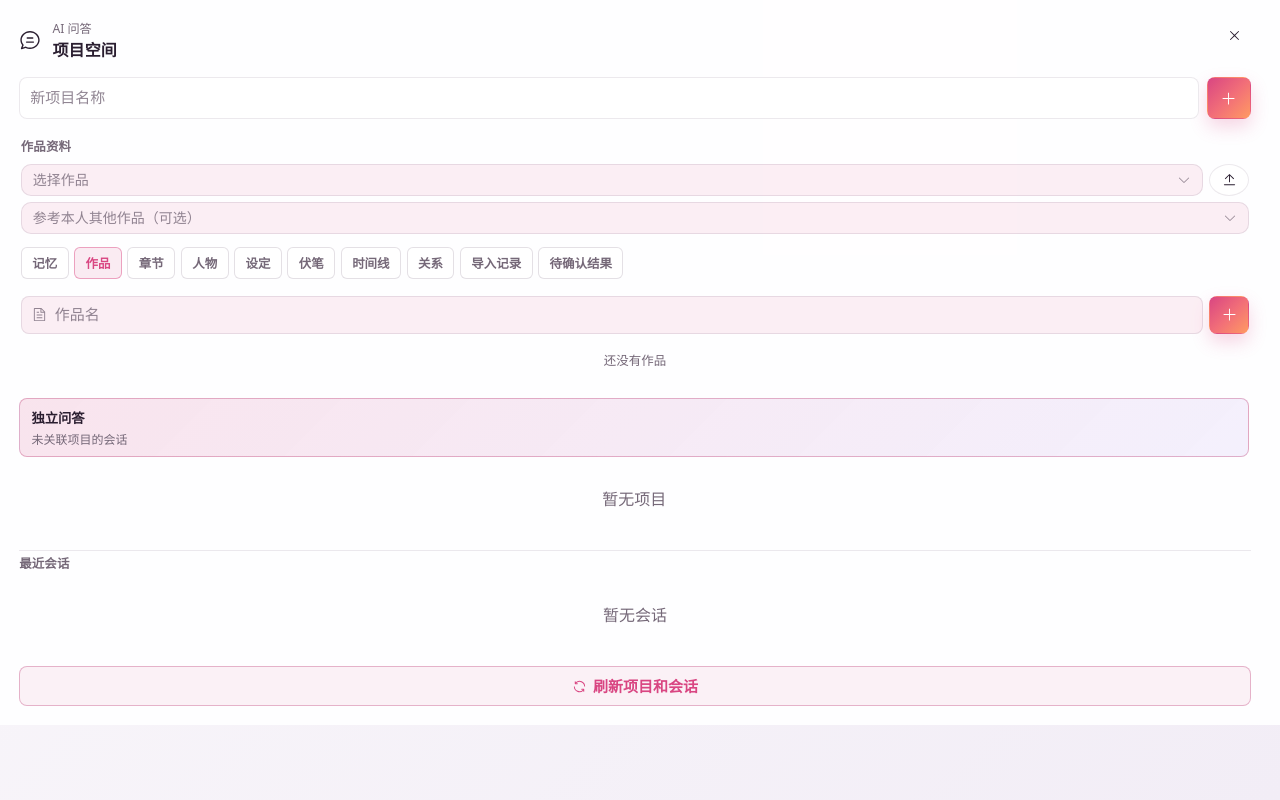
KnowledgeProjectSpace › keeps a newly created project if the initial project list resolves later
The image size is (1280, 800).
Type "late project" into the field with placeholder "新项目名称" at {"x": 609, "y": 98}, box [30,83,1188,113]
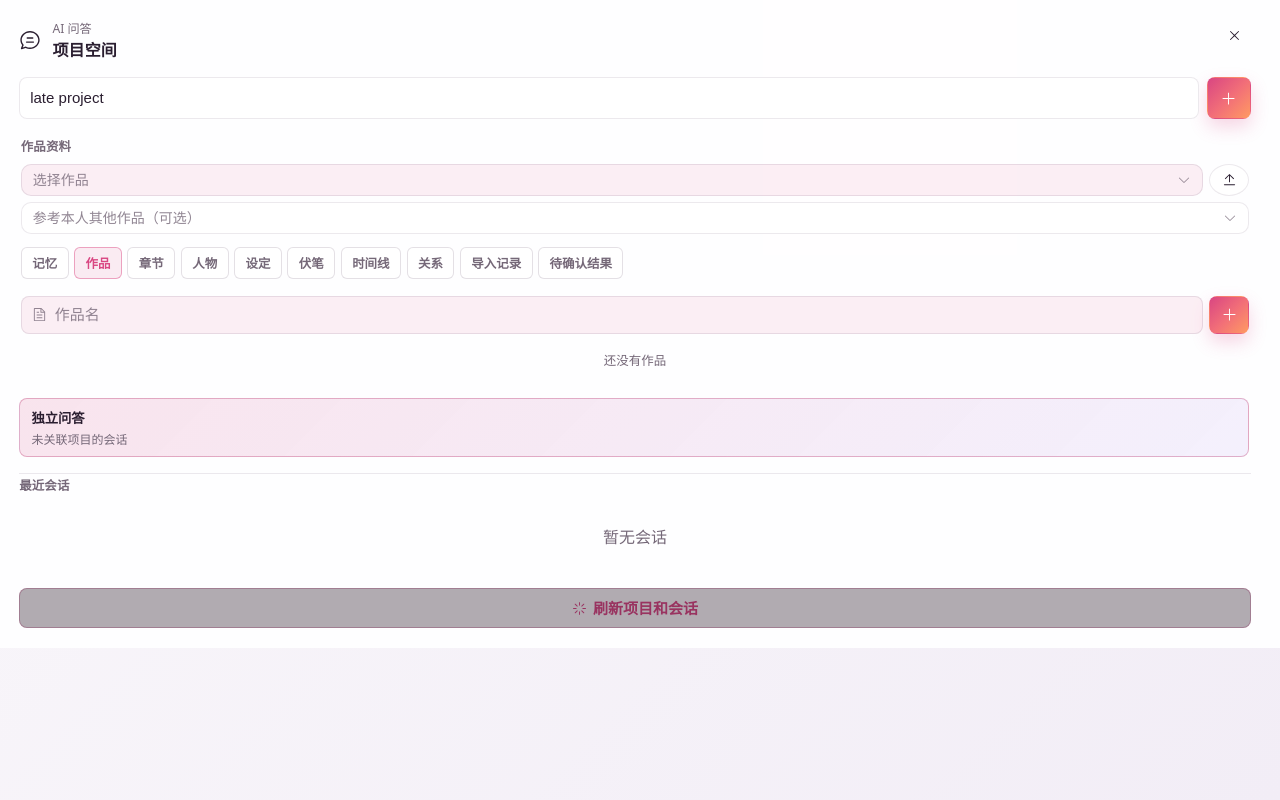
Click the button with test id "knowledge-create-project" at {"x": 1229, "y": 98}, box [1207,77,1251,119]
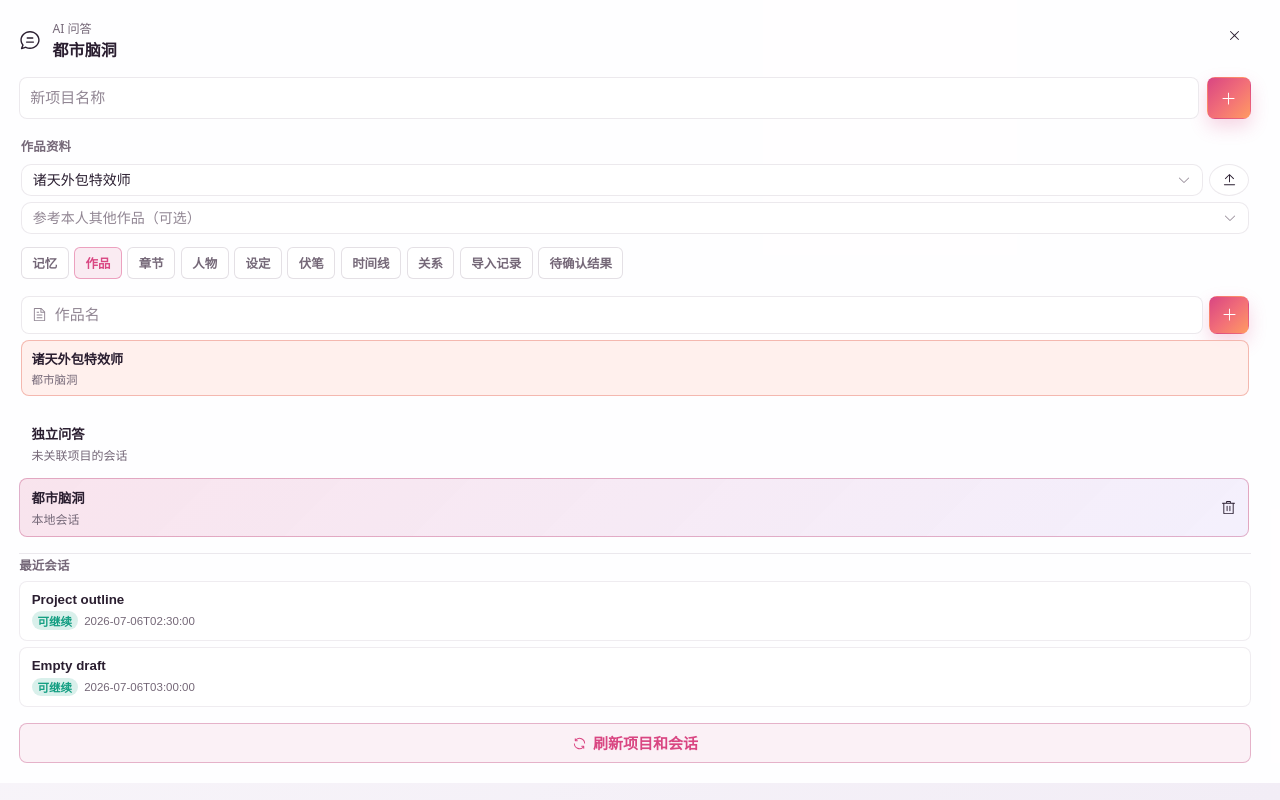
expect the text "都市脑洞" is shown: met, box [52,37,117,61]
